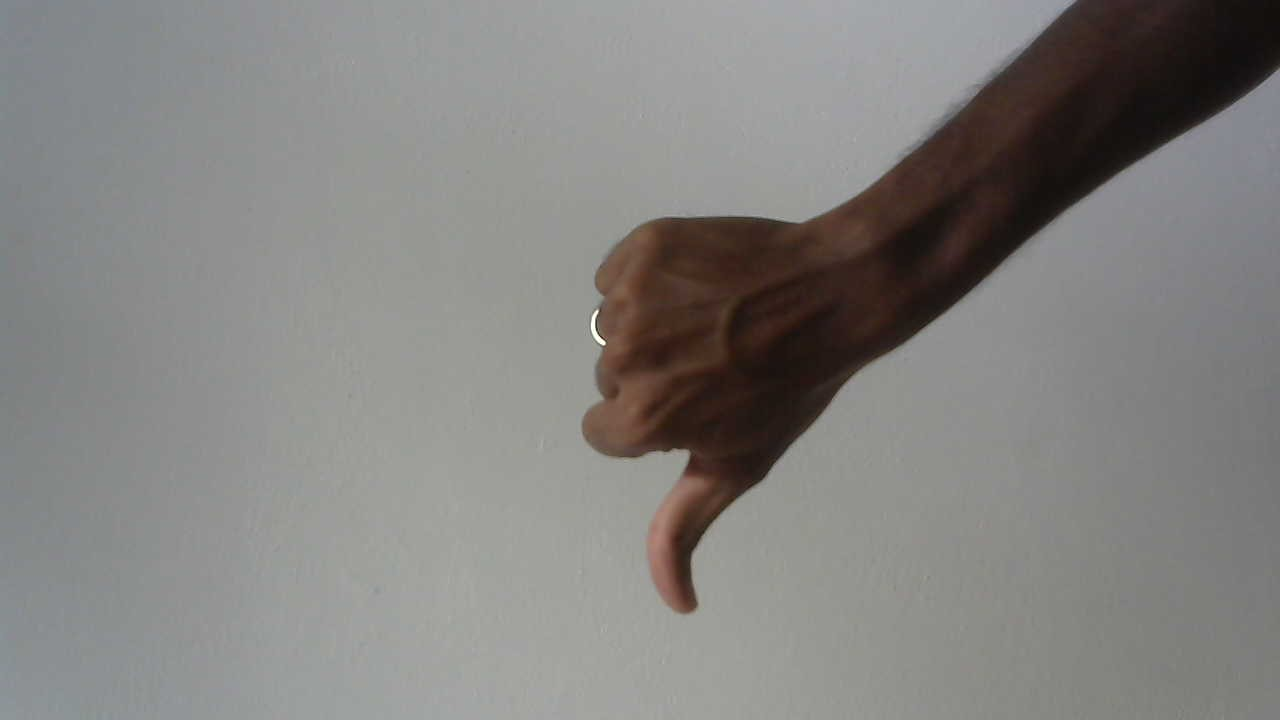thumbsdown: (567, 190, 864, 640)
